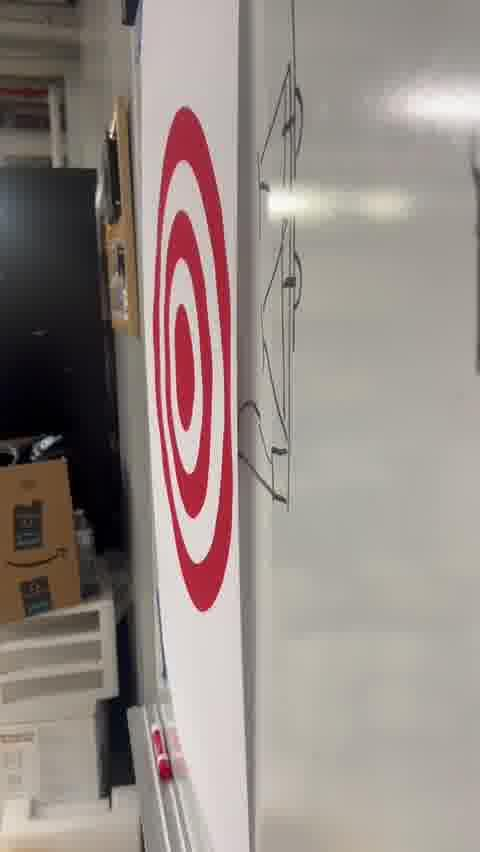target_red: (156, 104, 231, 610)
